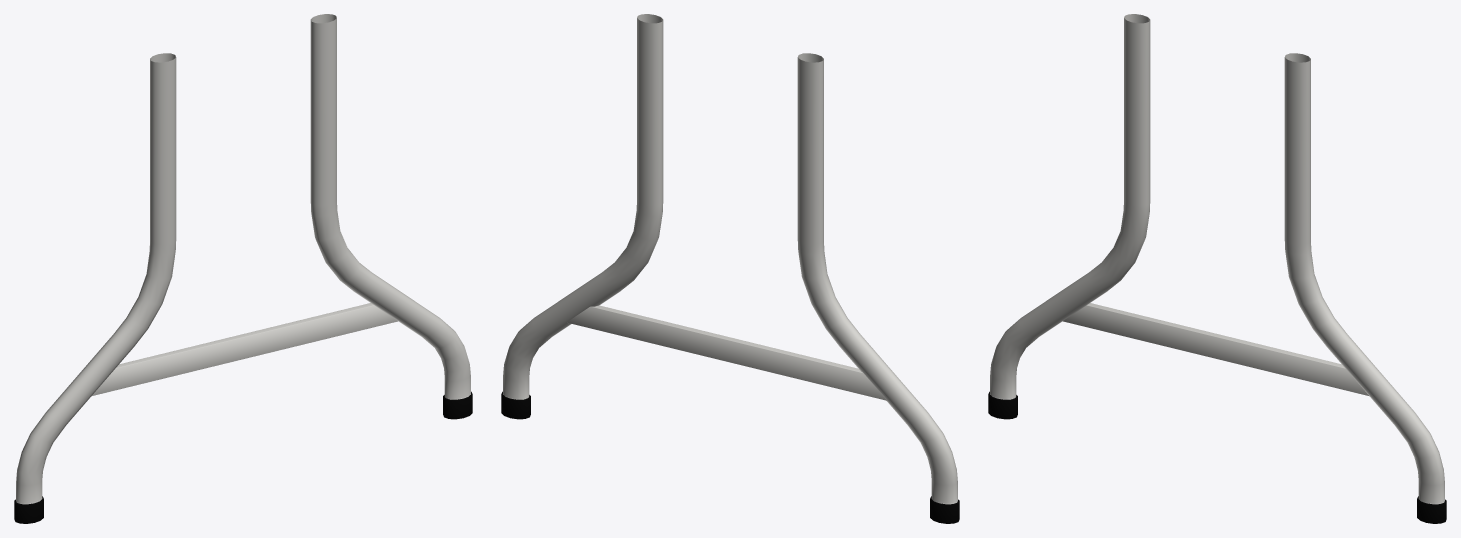
The model's file is pata1.obj.
3 views of the same model, side by side, from view 1: azimuth 30°, elevation 25°; view 2: azimuth 150°, elevation 25°; view 3: azimuth 330°, elevation 25° (orthographic).
Parts seen in each view (by area): view 1: Pata1; view 2: Pata1; view 3: Pata1.
Part boxes in pixels (box(x1,y1,x2,y2)): Pata1: box(14, 14, 472, 523); Pata1: box(501, 14, 959, 523); Pata1: box(988, 14, 1446, 523).
Size of the model in its own units: 1.24 by 1.11 by 0.0541.
1 material, 1 textured.
